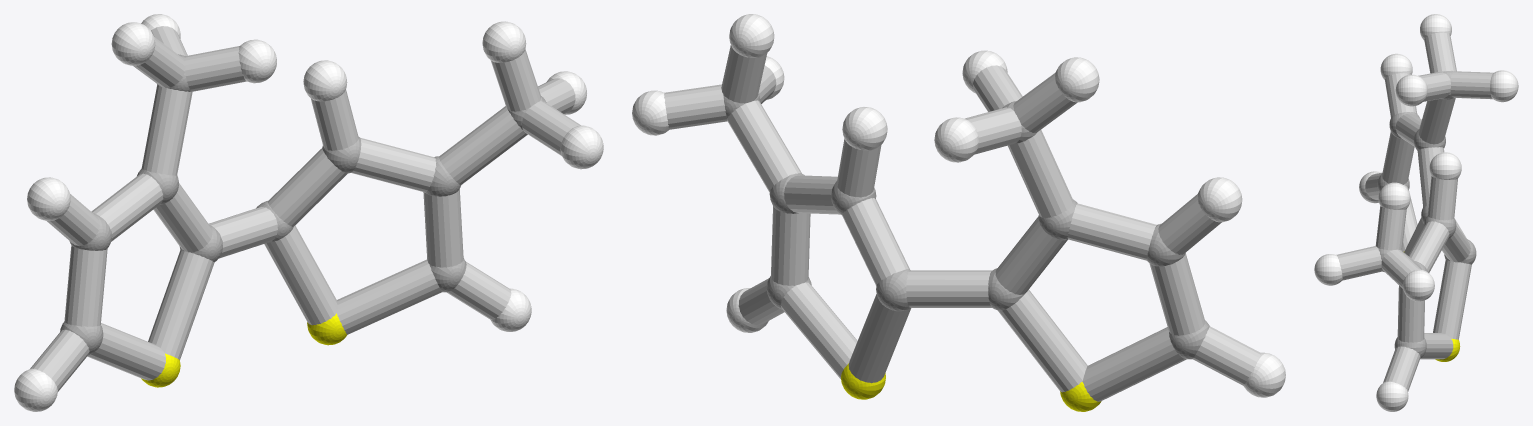
Rendered from Methylthiophene_Phi_40_Theta_190_Methylthiophene.glb.
The picture shows the model from 3 angles, left to right: view 1: azimuth 30°, elevation 25°; view 2: azimuth 150°, elevation 25°; view 3: azimuth 270°, elevation 25°; orthographic projection. The views are drawn at different scales.
Parts seen in each view (by area): view 1: grp7965, grp3621, grp1, grp7241; view 2: grp7965, grp3621, grp1, grp7241; view 3: grp7965, grp3621, grp1, grp7241.
Boxes of the visible parts, box(x1,y1,x2,y2) form: grp7965: box(30, 26, 580, 391); grp3621: box(14, 14, 603, 411); grp1: box(60, 54, 546, 354); grp7241: box(141, 313, 346, 387); grp7965: box(664, 45, 1261, 401); grp3621: box(632, 14, 1285, 397); grp1: box(723, 93, 1209, 359); grp7241: box(841, 363, 1101, 411); grp7965: box(1336, 32, 1493, 391); grp3621: box(1314, 14, 1518, 411); grp1: box(1377, 70, 1476, 358); grp7241: box(1404, 251, 1460, 361).
Size of the model in its own units: 9.44 by 5.62 by 3.81.
